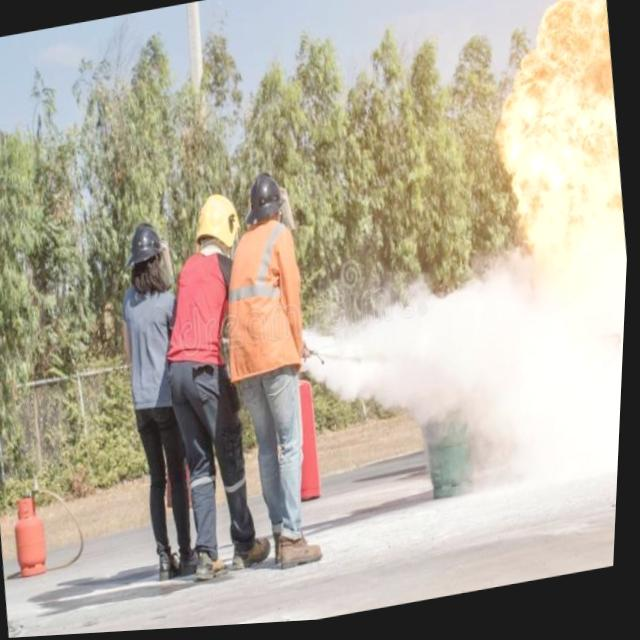FireExtinguisher: (272, 333, 346, 512)
